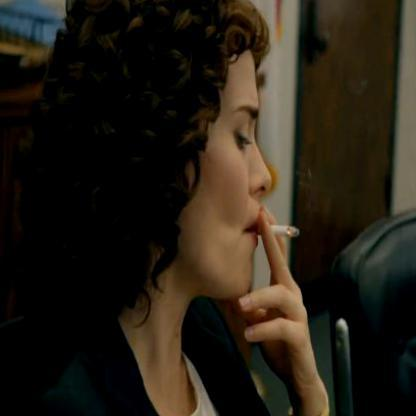cigarette: (261, 221, 301, 240)
person: (0, 1, 275, 415)
